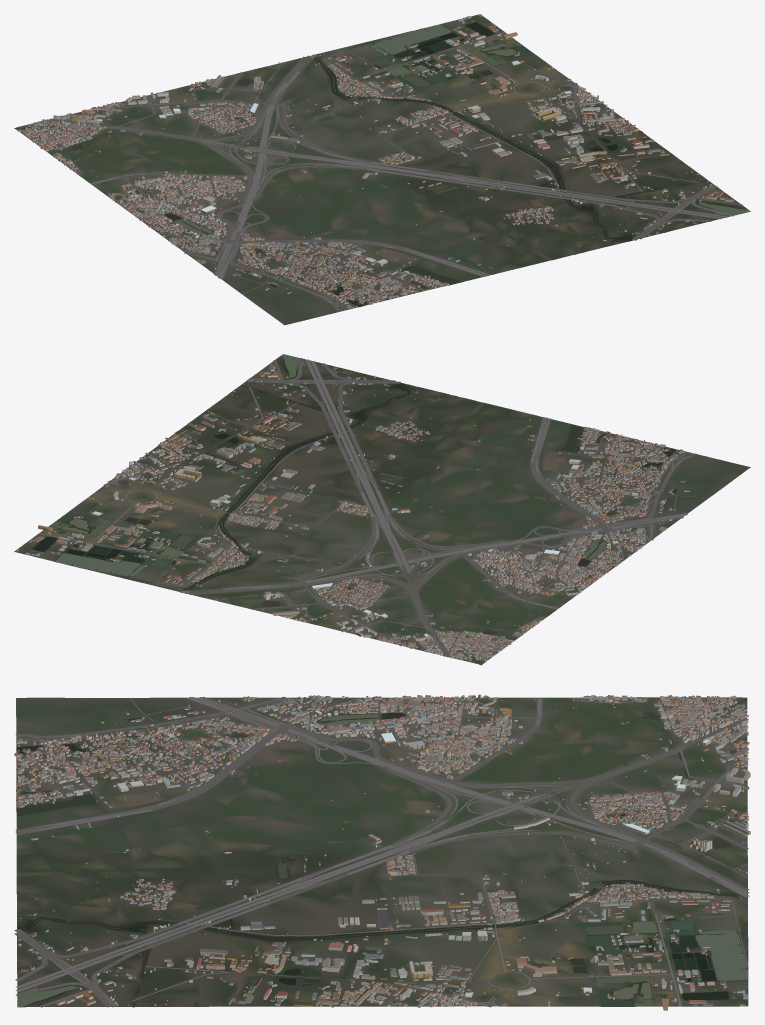
3 views of the same model, one above another, from view 1: azimuth 30°, elevation 25°; view 2: azimuth 150°, elevation 25°; view 3: azimuth 270°, elevation 25° (orthographic). The views are drawn at different scales.
Visible parts, largest first — view 1: ground, buildings, roads, water; view 2: ground, buildings, roads, water; view 3: ground, buildings, roads, water.
Part boxes in pixels (x1,y1,x2,y2): ground: (14,14,750,325); buildings: (18,14,733,308); roads: (31,28,742,311); water: (72,22,750,306); ground: (14,355,750,665); buildings: (16,363,689,661); roads: (38,358,707,659); water: (32,354,677,643); ground: (16,697,748,1007); buildings: (14,694,750,1010); roads: (14,696,749,1007); water: (16,712,747,1006).
Bounding box in the file's own units: 2845 × 40.81 × 2826.
